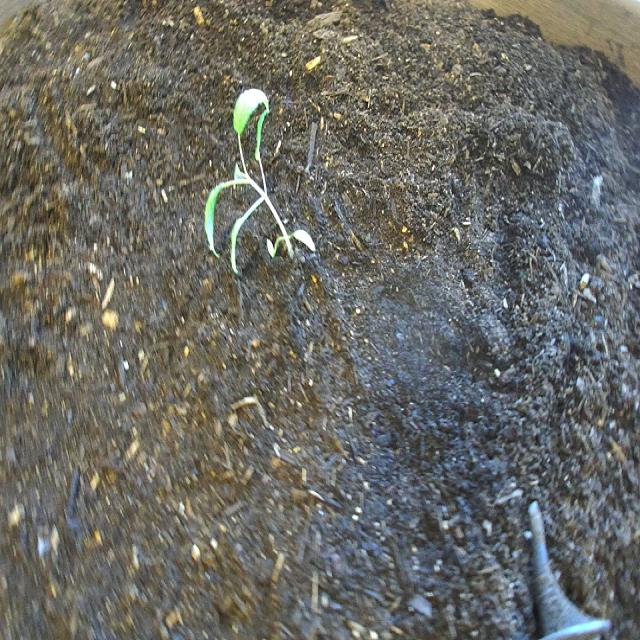Healthy: (198, 79, 322, 276)
